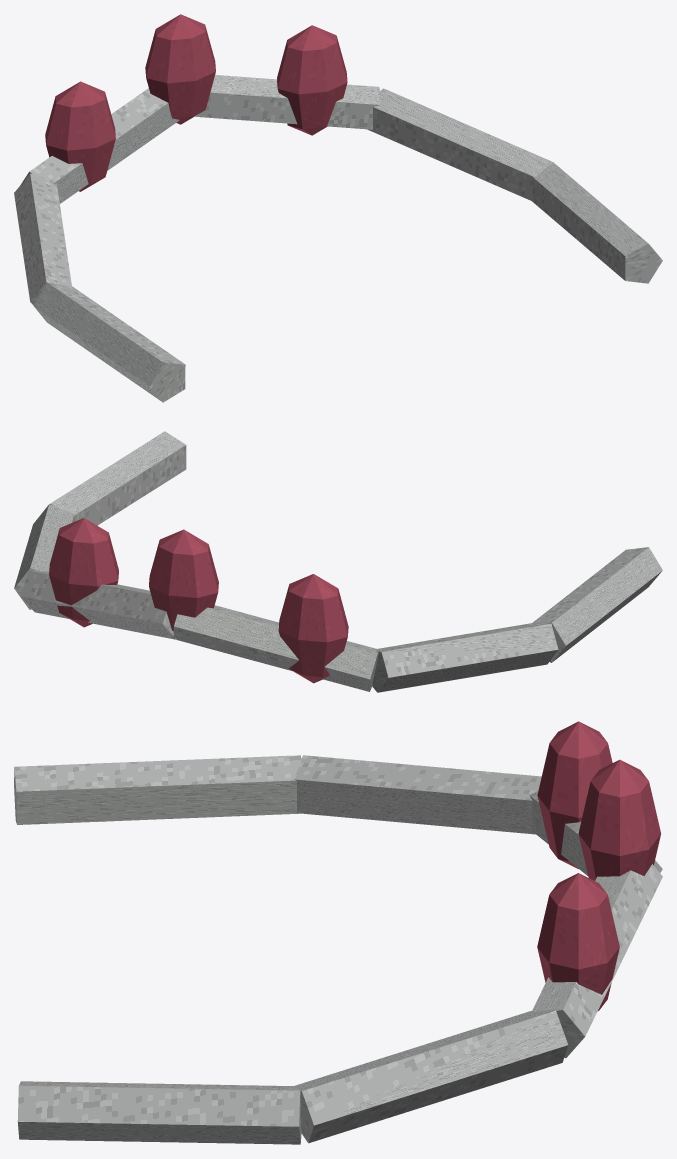
The model's file is ruby_silver_tiara.glb.
The picture shows the model from 3 angles, top to bottom: view 1: azimuth 30°, elevation 25°; view 2: azimuth 150°, elevation 25°; view 3: azimuth 270°, elevation 25°; orthographic projection. The views are drawn at different scales.
Parts seen in each view (by area): view 1: block_set crown gemstone (×3), block_ornamental headband 4, block_ornamental headband 0, block_ornamental headband 5, block_ornamental headband 3, block_ornamental headband 1, block_ornamental headband 2; view 2: block_set crown gemstone (×3), block_ornamental headband 1, block_ornamental headband 2, block_ornamental headband 5, block_ornamental headband 0, block_ornamental headband 3, block_ornamental headband 4; view 3: block_set crown gemstone (×3), block_ornamental headband 0, block_ornamental headband 5, block_ornamental headband 4, block_ornamental headband 1, block_ornamental headband 3, block_ornamental headband 2.
Part boxes in pixels (x1,y1,x2,y2): block_set crown gemstone (×3): [45, 14, 347, 191]; block_ornamental headband 4: [367, 88, 553, 201]; block_ornamental headband 0: [34, 282, 185, 402]; block_ornamental headband 5: [532, 163, 662, 283]; block_ornamental headband 3: [194, 75, 380, 129]; block_ornamental headband 1: [14, 173, 71, 305]; block_ornamental headband 2: [21, 88, 179, 203]; block_set crown gemstone (×3): [49, 518, 348, 683]; block_ornamental headband 1: [372, 623, 558, 692]; block_ornamental headband 2: [173, 605, 378, 691]; block_ornamental headband 5: [50, 431, 186, 525]; block_ornamental headband 0: [532, 547, 662, 662]; block_ornamental headband 3: [20, 570, 176, 639]; block_ornamental headband 4: [14, 504, 74, 609]; block_set crown gemstone (×3): [537, 721, 661, 1010]; block_ornamental headband 0: [14, 755, 301, 824]; block_ornamental headband 5: [17, 1081, 301, 1144]; block_ornamental headband 4: [293, 1009, 568, 1143]; block_ornamental headband 1: [293, 755, 541, 834]; block_ornamental headband 3: [531, 864, 662, 1058]; block_ornamental headband 2: [529, 791, 662, 875].
Size of the model in its own units: 0.129 by 0.0381 by 0.1014.
Materials: 1 (1 with a texture image).
